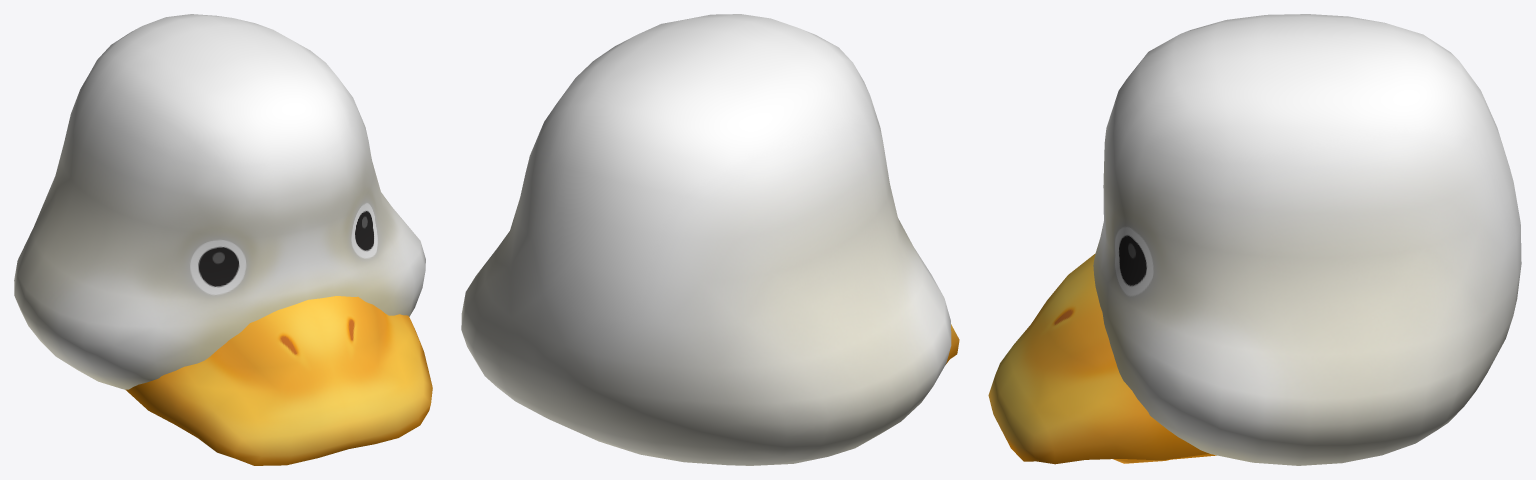
The model's file is CRT0110008.FBX.
The picture shows the model from 3 angles, left to right: view 1: azimuth 30°, elevation 25°; view 2: azimuth 150°, elevation 25°; view 3: azimuth 270°, elevation 25°; orthographic projection. The views are drawn at different scales.
Visible parts, largest first — view 1: smCRT0110008; view 2: smCRT0110008; view 3: smCRT0110008.
Part boxes in pixels (left/top/right/bottom): smCRT0110008: left=14, top=14, right=432, bottom=465; smCRT0110008: left=461, top=14, right=959, bottom=465; smCRT0110008: left=988, top=14, right=1521, bottom=465.
Bounding box in the file's own units: 0.0703 × 0.0624 × 0.0756.
Materials: 1 (1 with a texture image).
